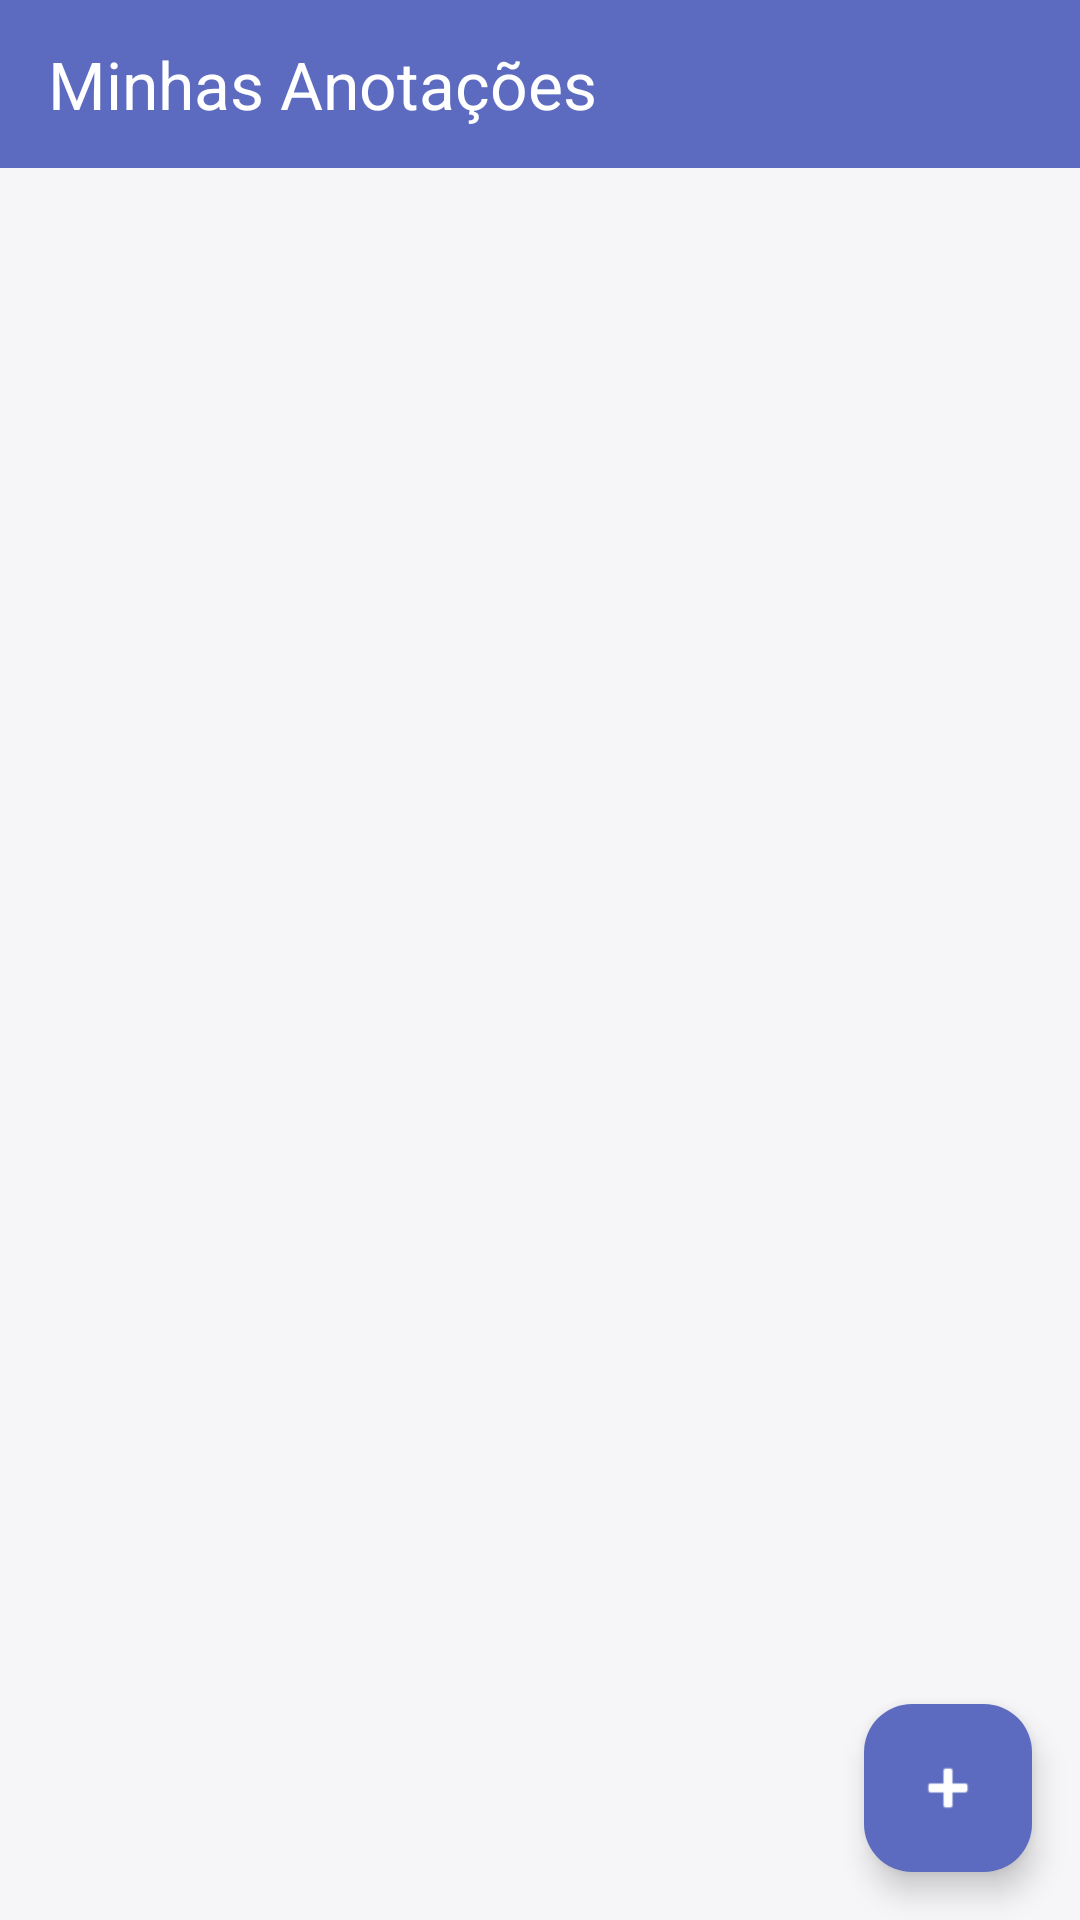

Where icons sit on this 1080px×1920px app screen, as (x1, y1, x2, y2):
Nova anotação: (864, 1704, 1032, 1872)
